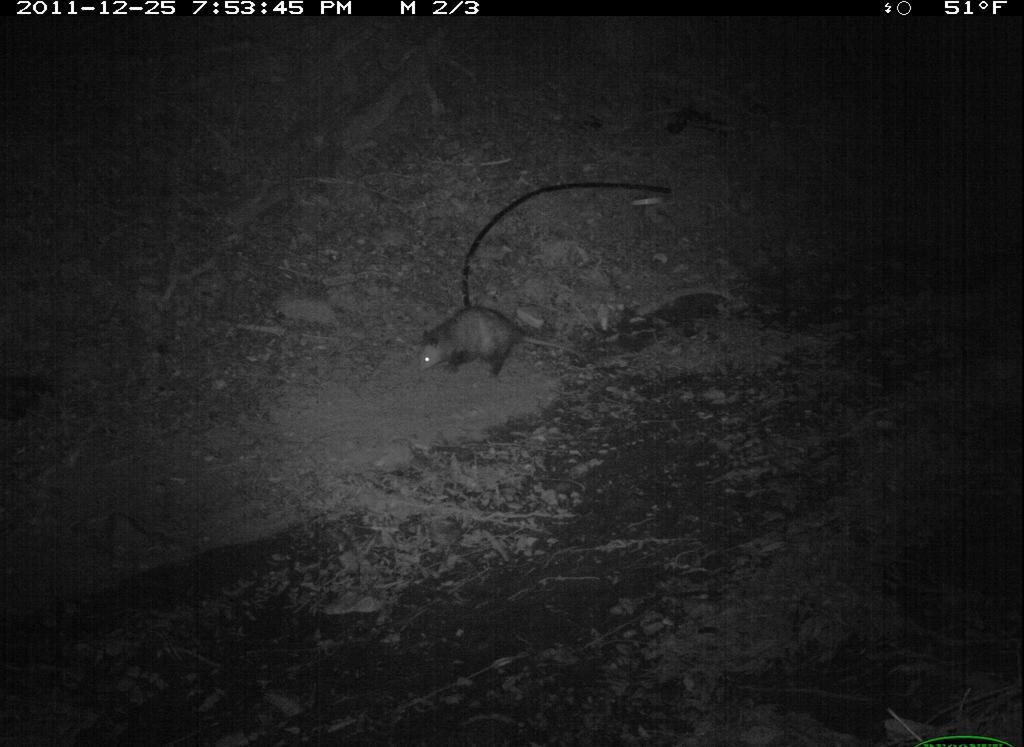opossum: (420, 300, 593, 391)
